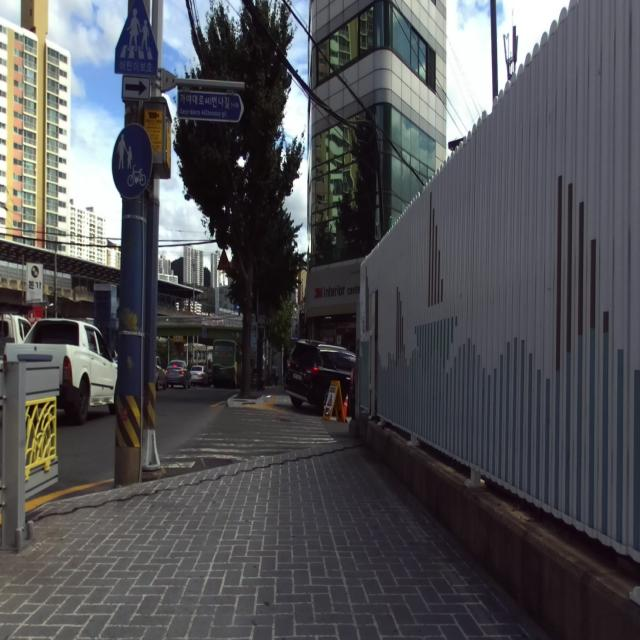횡단보도: (158, 408, 338, 469)
